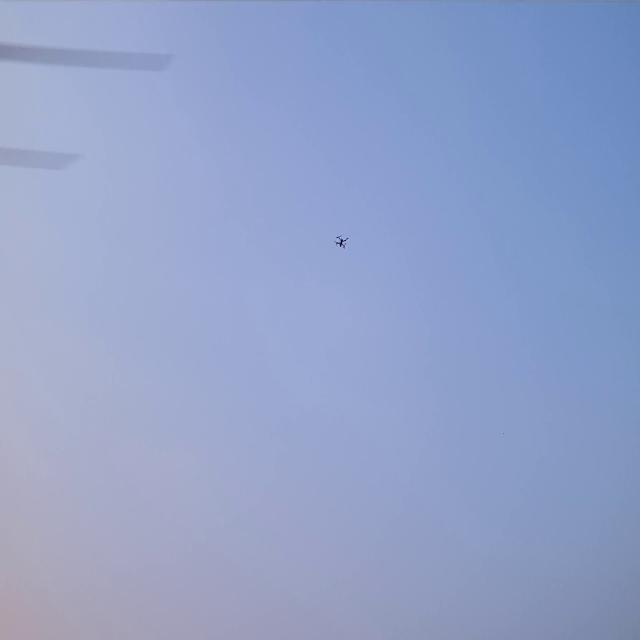UAV: (333, 230, 350, 252)
